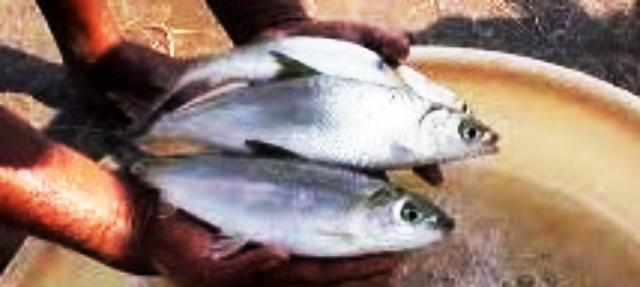Healthy Fish: (135, 42, 502, 170), (135, 153, 458, 263)
